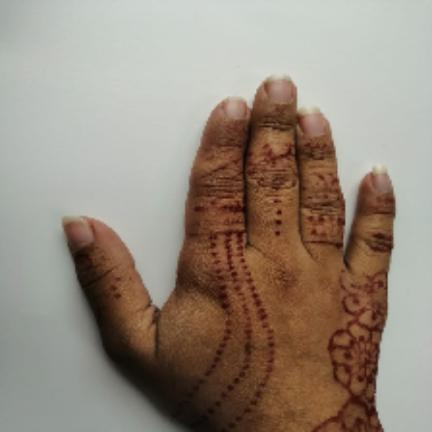Nail: (62, 216, 94, 251), (265, 75, 293, 104), (298, 106, 325, 136), (371, 165, 391, 192), (224, 97, 247, 119)
